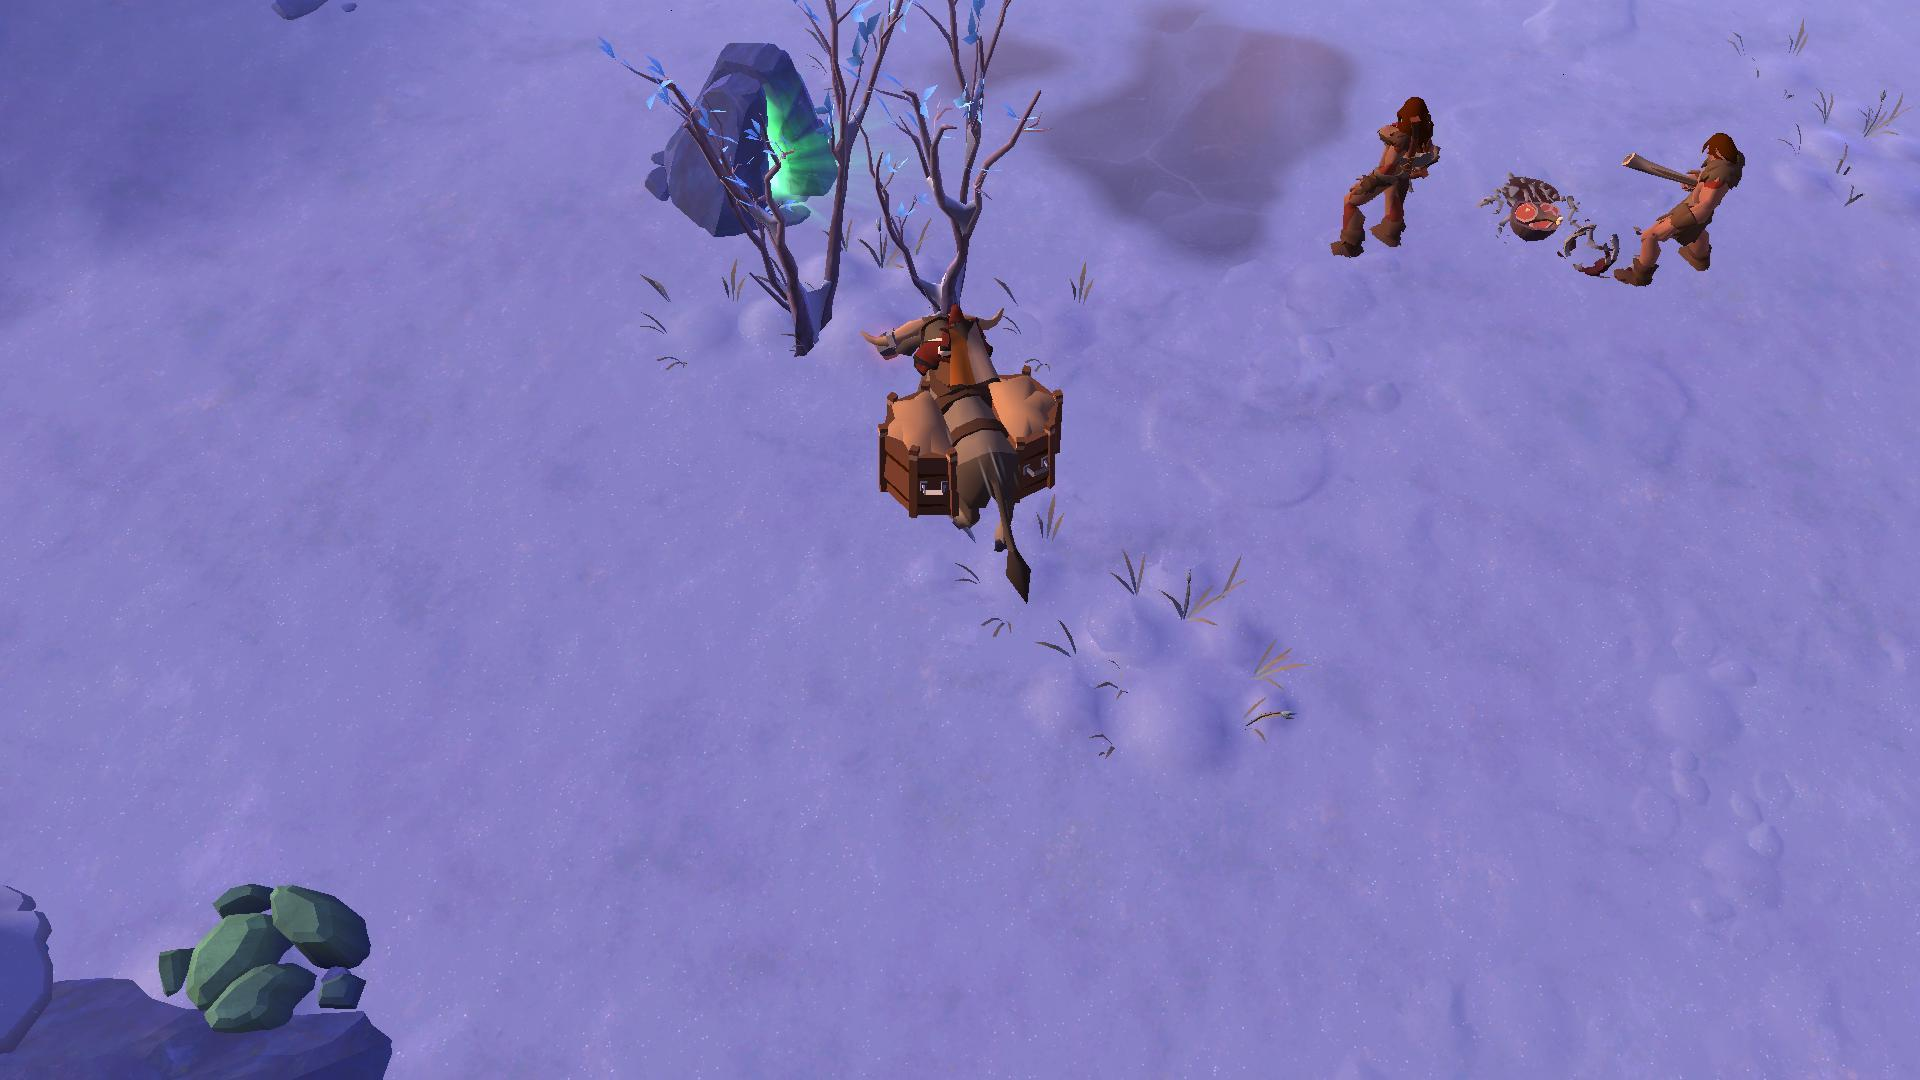enemy_factionKeeper: (1621, 116, 1738, 294), (1332, 91, 1435, 264)
rock_t3: (154, 876, 380, 1040)
